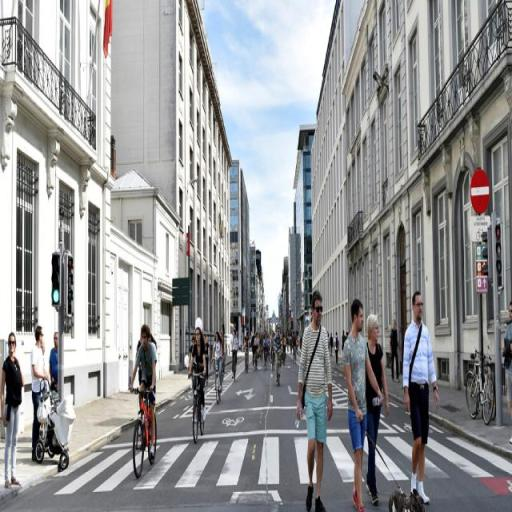person: (403, 292, 442, 501), (297, 295, 331, 512), (345, 298, 368, 512), (367, 311, 390, 505), (130, 325, 159, 460), (2, 336, 23, 488), (189, 330, 207, 426), (33, 328, 45, 460), (505, 305, 512, 445), (48, 333, 62, 399), (212, 332, 225, 395), (390, 319, 402, 383), (276, 330, 284, 385), (232, 330, 240, 377), (245, 331, 252, 369), (334, 330, 341, 367), (255, 335, 260, 362)
